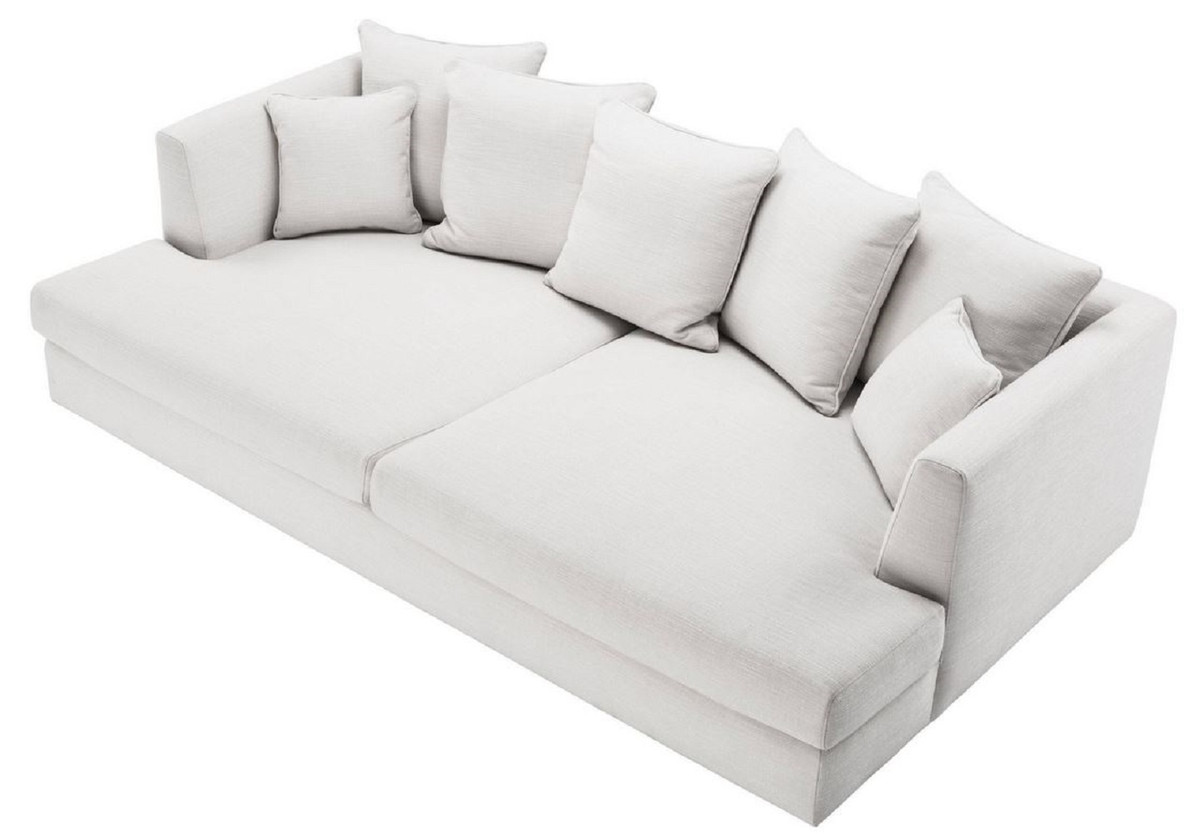bantal: (558, 106, 722, 343), (892, 169, 1094, 353), (744, 155, 885, 412), (436, 64, 566, 264), (266, 92, 415, 233), (867, 320, 984, 457)
sova: (31, 49, 1168, 773)
